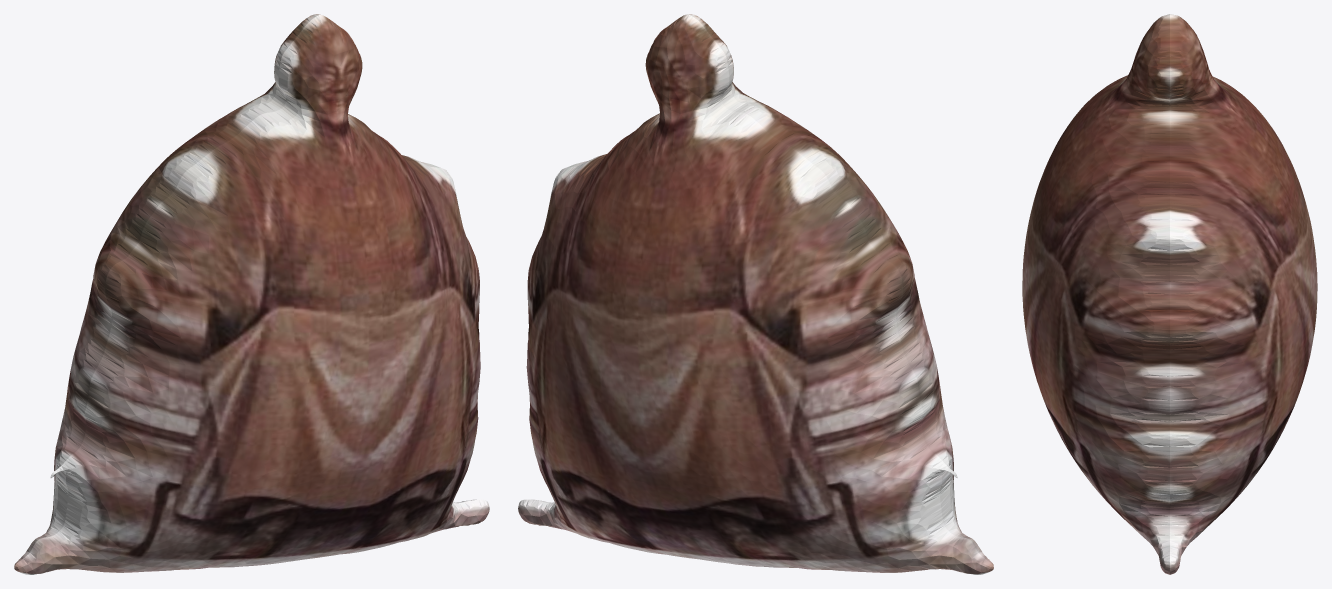
File: ROCman.glb
3 views of the same model, side by side, from view 1: azimuth 30°, elevation 25°; view 2: azimuth 150°, elevation 25°; view 3: azimuth 270°, elevation 25° (orthographic). The views are drawn at different scales.
Visible parts, largest first — view 1: bda75685-3525-481f-82e5-453be5017fd7; view 2: bda75685-3525-481f-82e5-453be5017fd7; view 3: bda75685-3525-481f-82e5-453be5017fd7.
Part boxes in pixels (x1,y1,x2,y2): bda75685-3525-481f-82e5-453be5017fd7: (14,14,489,574); bda75685-3525-481f-82e5-453be5017fd7: (518,14,993,574); bda75685-3525-481f-82e5-453be5017fd7: (1022,14,1317,574).
Bounding box in the file's own units: 0.2 × 0.22 × 0.12.
Materials: 1 (1 with a texture image).
